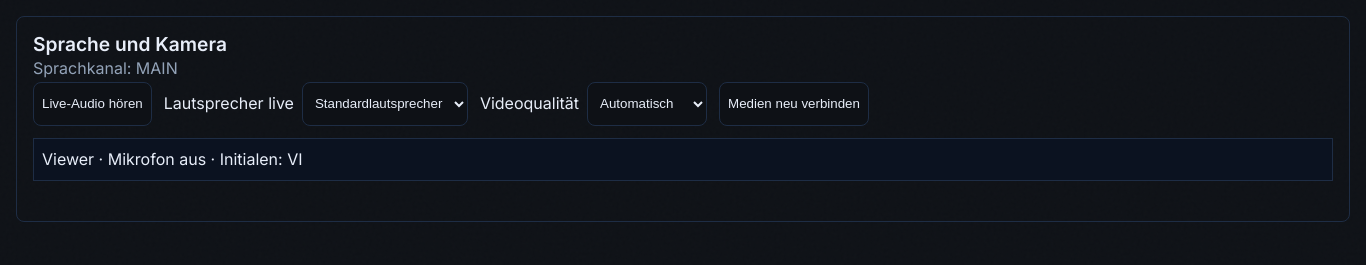
requests an authorized restart for a receive-only viewer and reports a rejected restart
This screenshot has width=1366, height=265.
Click the button "Medien neu verbinden". click: (794, 104)
box: [719,82,869,126]
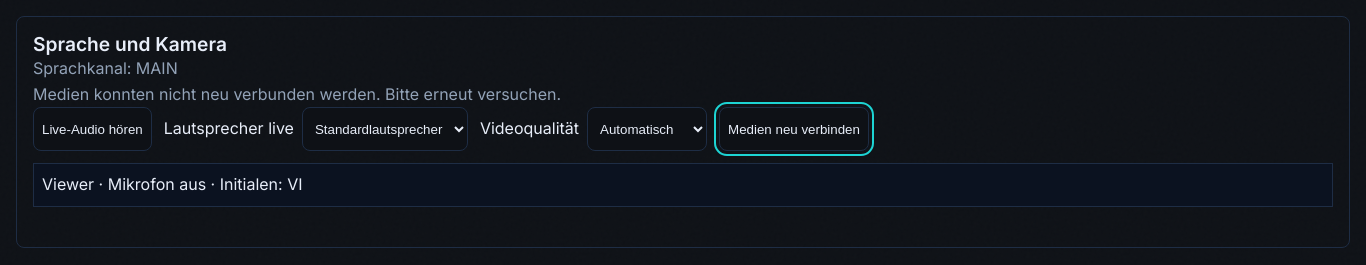
Now the text "Medien konnten nicht neu verbunden werden. Bitte erneut versuchen." is shown, box [33,84,561,104]
